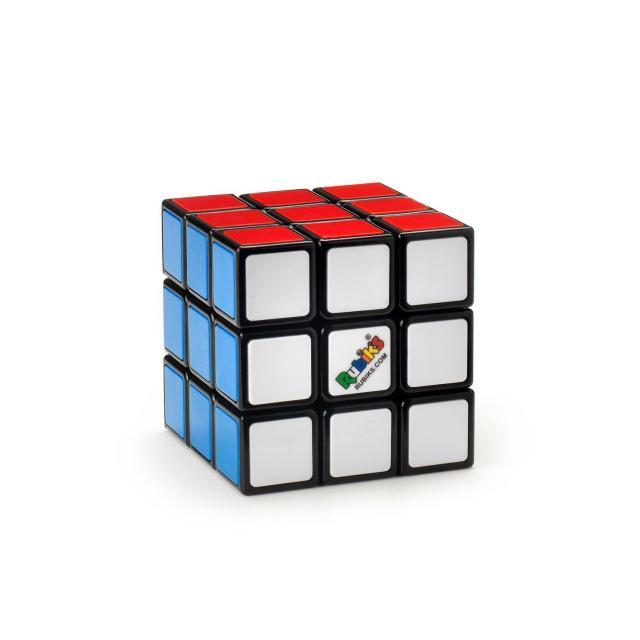Rub: (156, 179, 490, 498)
